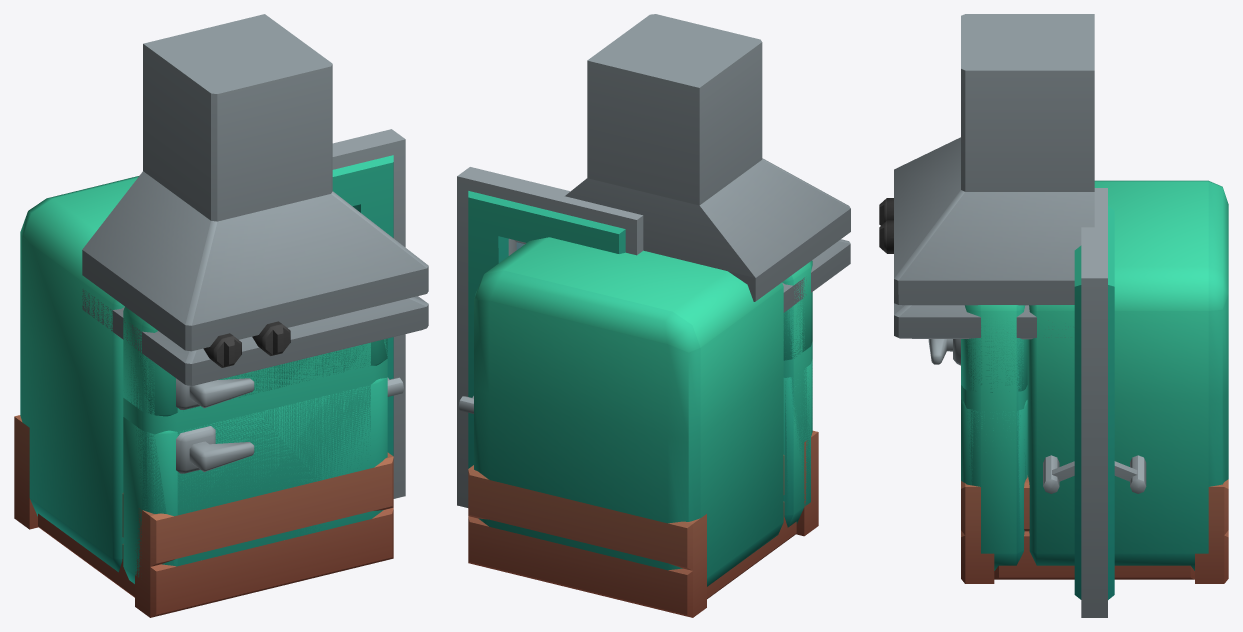
The model's file is restaurant.glb.
The picture shows the model from 3 angles, left to right: view 1: azimuth 30°, elevation 25°; view 2: azimuth 150°, elevation 25°; view 3: azimuth 270°, elevation 25°; orthographic projection. The views are drawn at different scales.
Parts seen in each view (by area): view 1: extractorhood, fridge_A, crate, fridge_B_door, fridge_A_door_bottom, door_A, fridge_A_door_top; view 2: fridge_A, extractorhood, crate, door_A, fridge_B_door, fridge_A_door_bottom, fridge_A_door_top; view 3: fridge_A, extractorhood, door_A, fridge_B_door, crate, fridge_A_door_bottom, fridge_A_door_top.
Boxes of the visible parts, x1=… form: extractorhood: x1=82, y1=14, x2=428, y2=386; fridge_A: x1=20, y1=176, x2=138, y2=572; crate: x1=14, y1=415, x2=393, y2=617; fridge_B_door: x1=123, y1=306, x2=387, y2=565; fridge_A_door_bottom: x1=123, y1=377, x2=387, y2=583; door_A: x1=332, y1=129, x2=405, y2=498; fridge_A_door_top: x1=123, y1=312, x2=387, y2=416; fridge_A: x1=474, y1=237, x2=783, y2=586; extractorhood: x1=565, y1=14, x2=850, y2=312; crate: x1=468, y1=430, x2=818, y2=617; door_A: x1=457, y1=167, x2=643, y2=507; fridge_B_door: x1=783, y1=260, x2=812, y2=515; fridge_A_door_bottom: x1=783, y1=359, x2=812, y2=527; fridge_A_door_top: x1=782, y1=263, x2=812, y2=360; fridge_A: x1=1027, y1=180, x2=1228, y2=570; extractorhood: x1=879, y1=14, x2=1094, y2=339; door_A: x1=1043, y1=188, x2=1146, y2=617; fridge_B_door: x1=929, y1=305, x2=1027, y2=553; crate: x1=961, y1=475, x2=1228, y2=583; fridge_A_door_bottom: x1=928, y1=339, x2=1027, y2=570; fridge_A_door_top: x1=961, y1=305, x2=1027, y2=392.
Size of the model in its own units: 2.6 by 4 by 2.61.
1 material, 1 textured.
